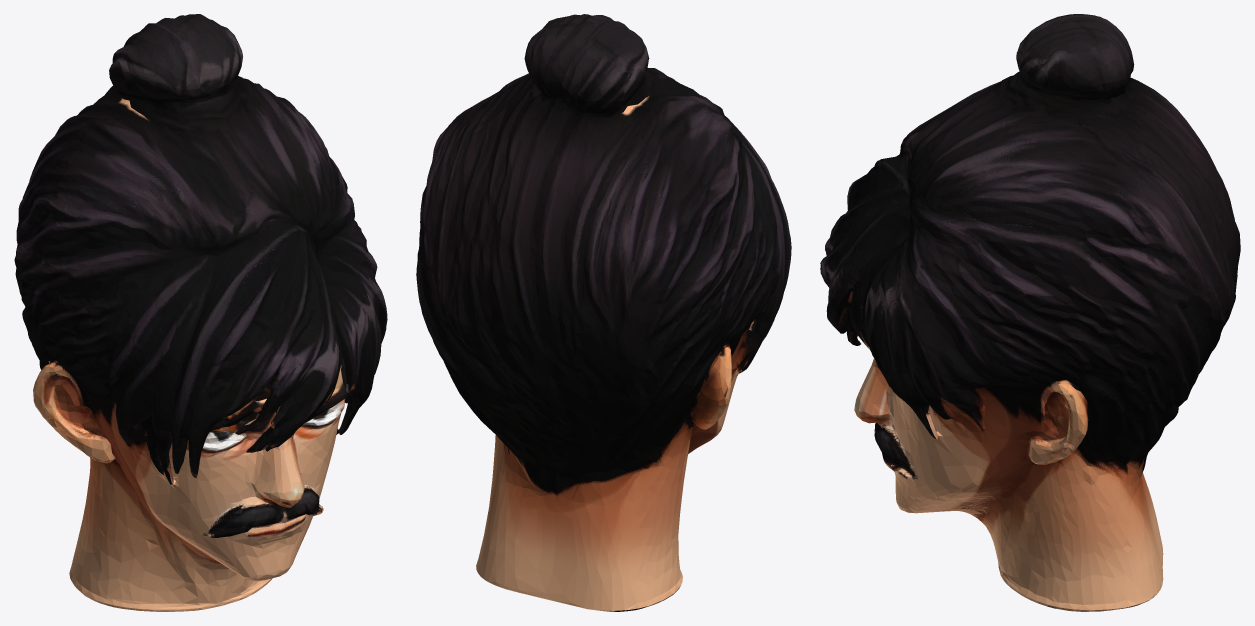
The model's file is side_hiroichi_repaired_atlas.glb.
The picture shows the model from 3 angles, left to right: view 1: azimuth 30°, elevation 25°; view 2: azimuth 150°, elevation 25°; view 3: azimuth 270°, elevation 25°; orthographic projection.
Visible parts, largest first — view 1: temp_mesh.ply; view 2: temp_mesh.ply; view 3: temp_mesh.ply.
Part boxes in pixels (x1,y1,x2,y2): temp_mesh.ply: (14,14,387,611); temp_mesh.ply: (416,14,791,611); temp_mesh.ply: (820,14,1240,611).
Size of the model in its own units: 0.7869 by 1.43 by 0.9931.
Materials: 1 (1 with a texture image).
